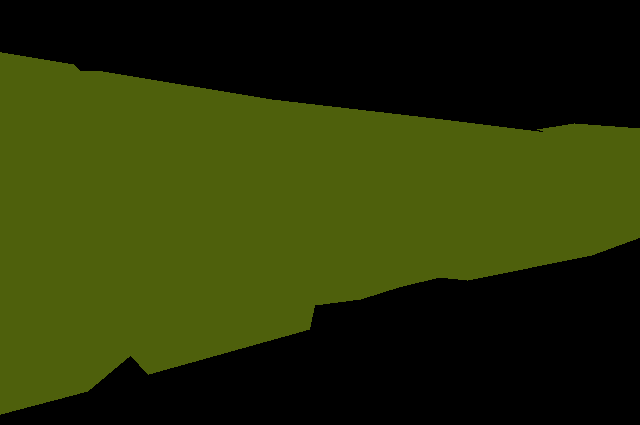Train: (0, 52, 640, 414)
